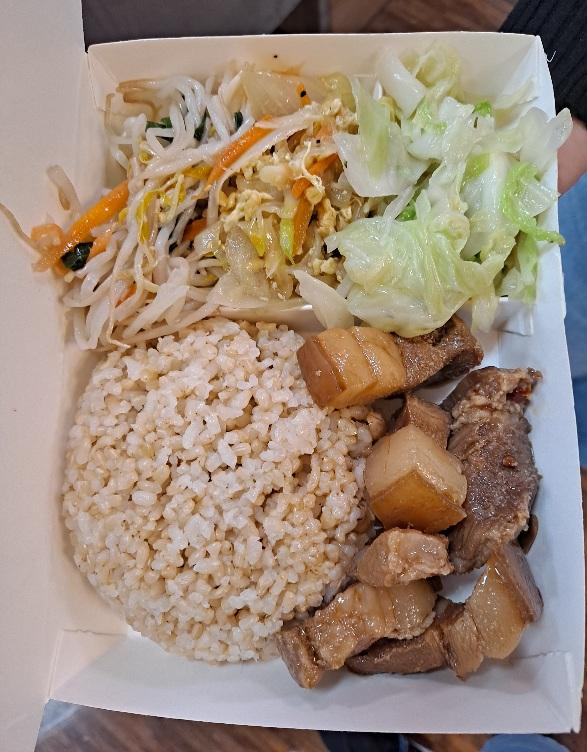big grilled chicken leg: (14, 14, 587, 752)
box: (57, 314, 370, 681)
braised fish fillet: (342, 60, 550, 320), (52, 61, 241, 314), (248, 79, 377, 301)
braised pork: (286, 300, 548, 702)
